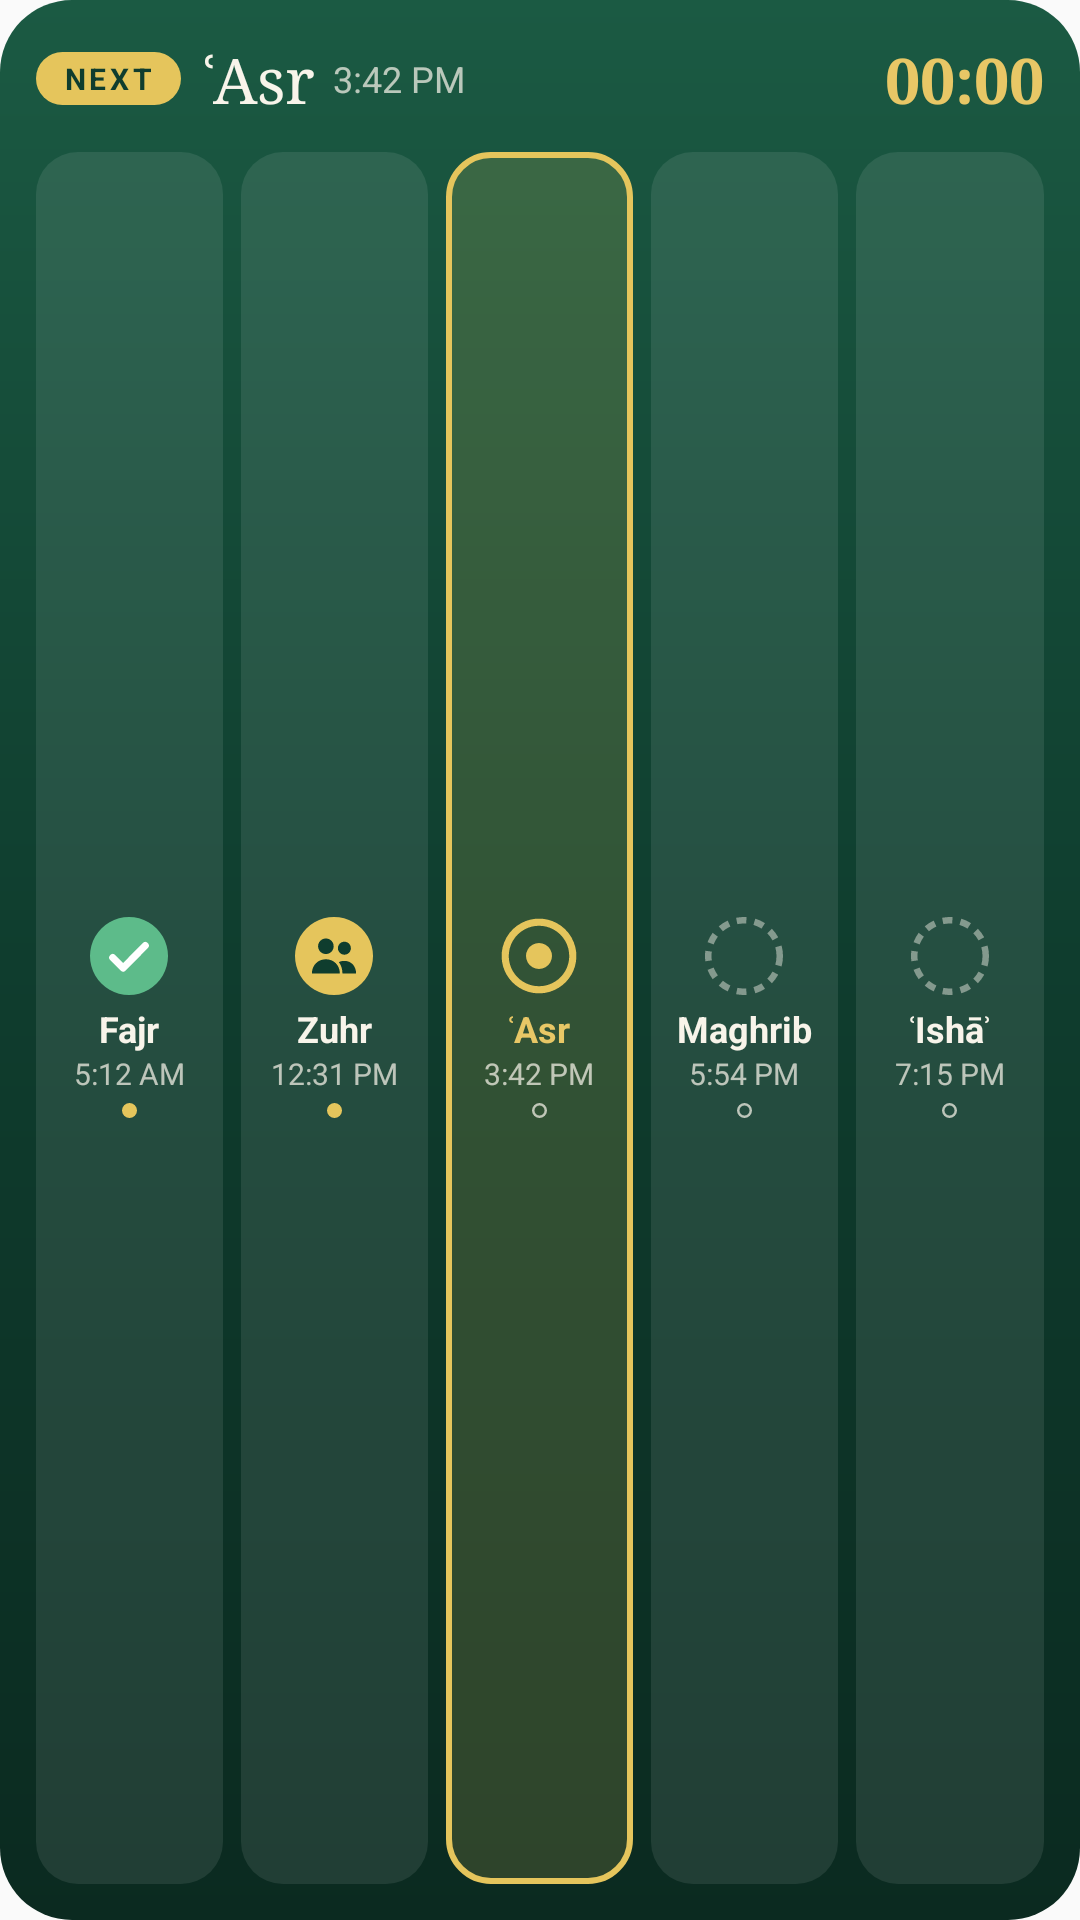

Point at icon controls on the screen. Image size 1080px×1920px, points as (x,y).
congregation: (334,956)
ontime: (129,956)
ring upcoming forest: (744,956), (950,956)
